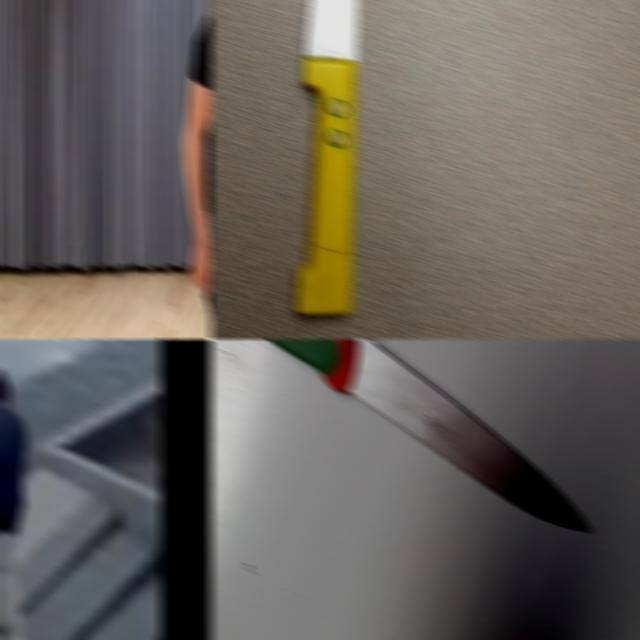Knife: (267, 338, 593, 532)
Knife_Handle: (189, 234, 213, 314)
